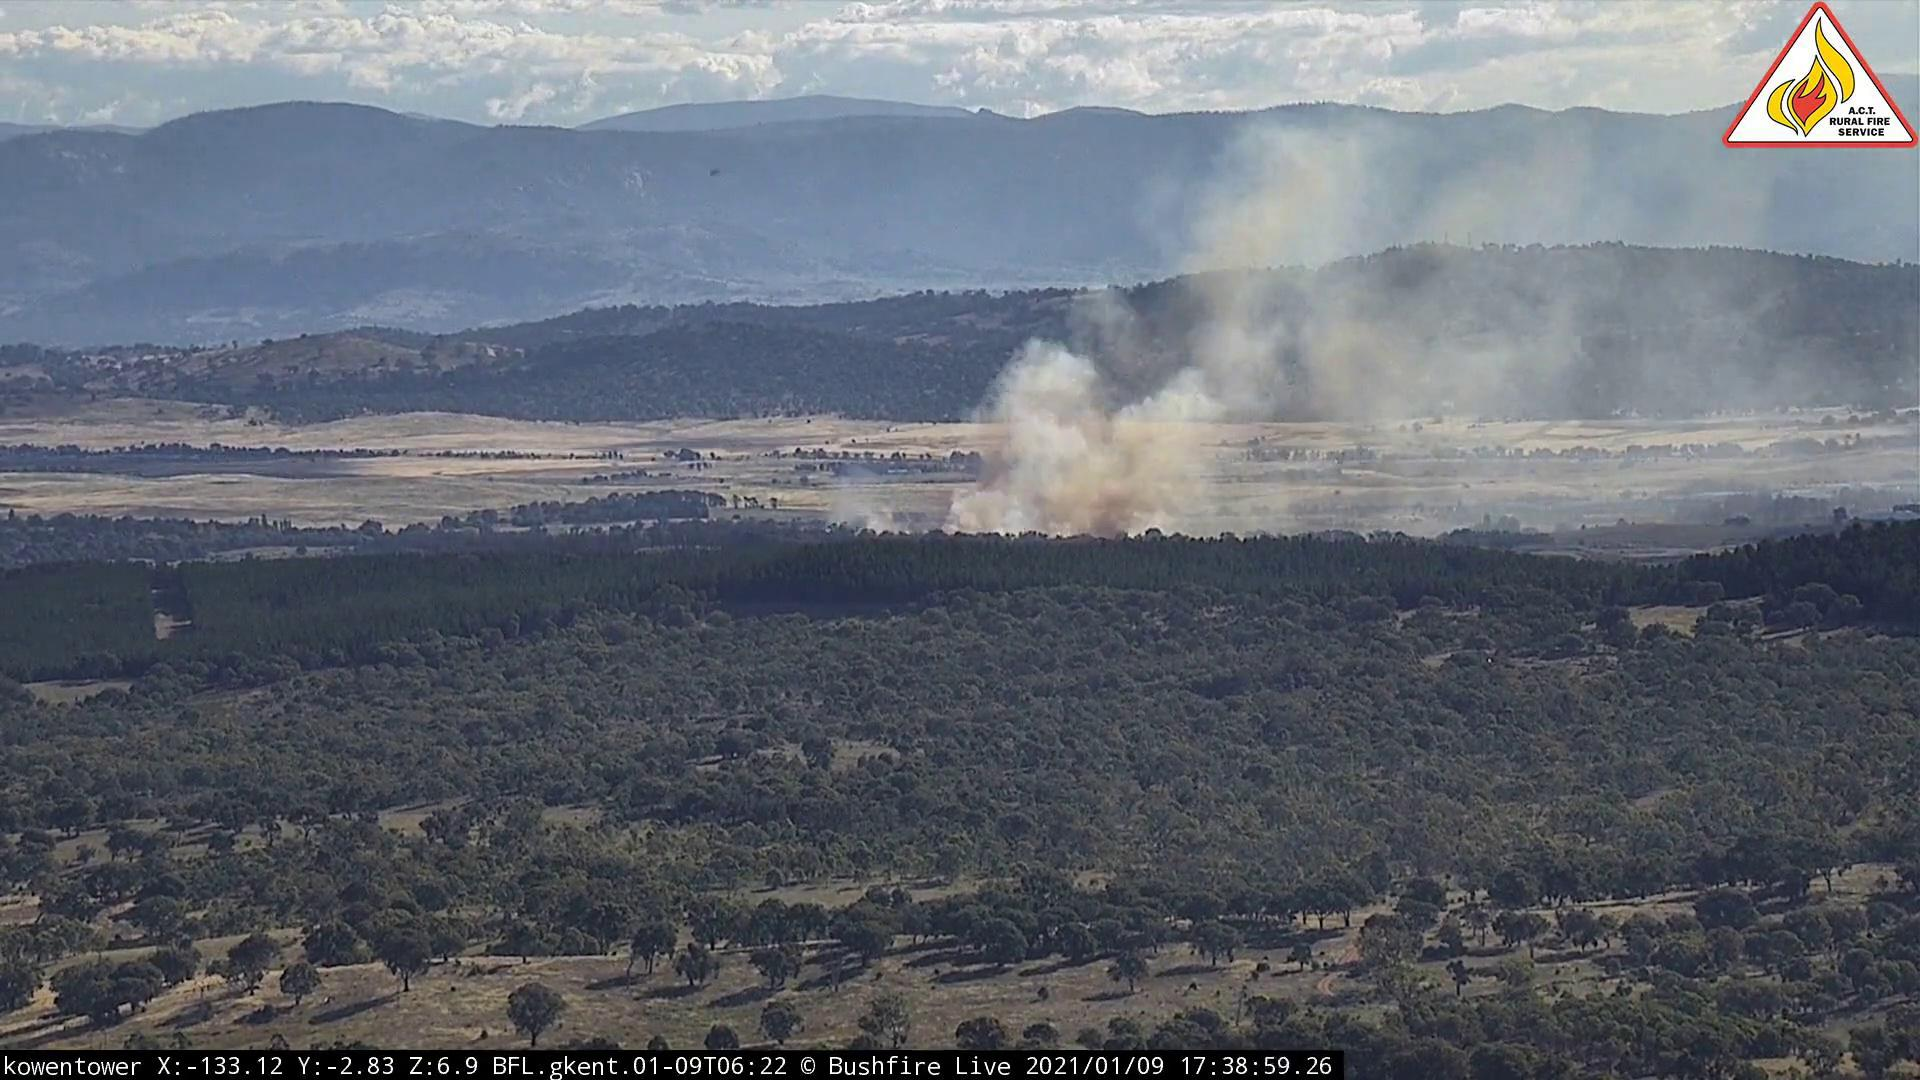Smoke: (855, 160, 1920, 545)
